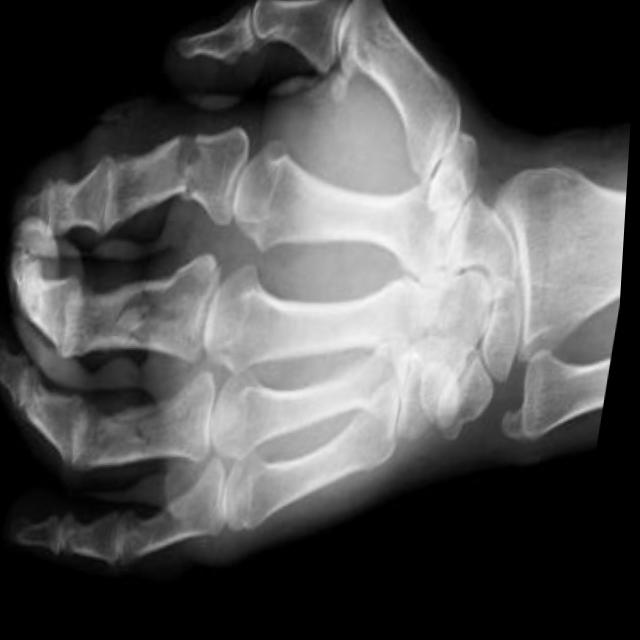fracture: (108, 261, 184, 364), (116, 384, 176, 479), (157, 120, 210, 211)
